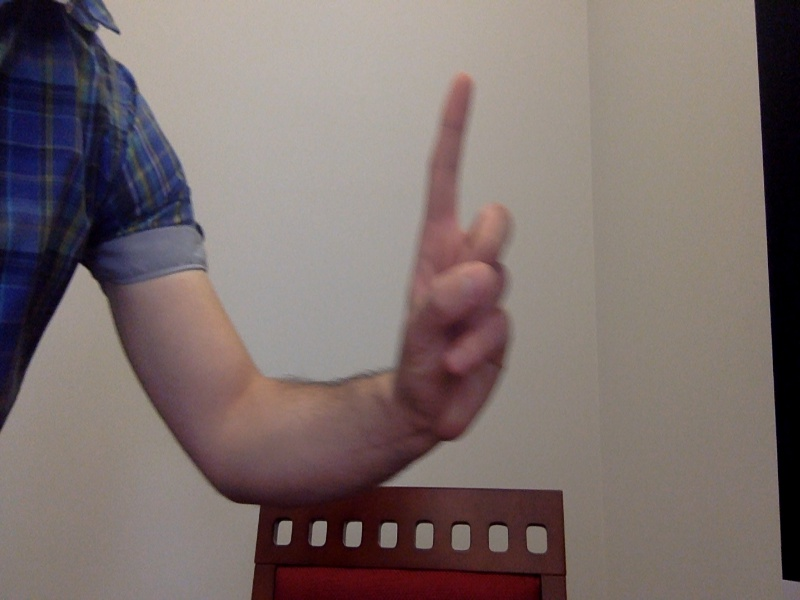1-hand: (383, 68, 527, 449)
